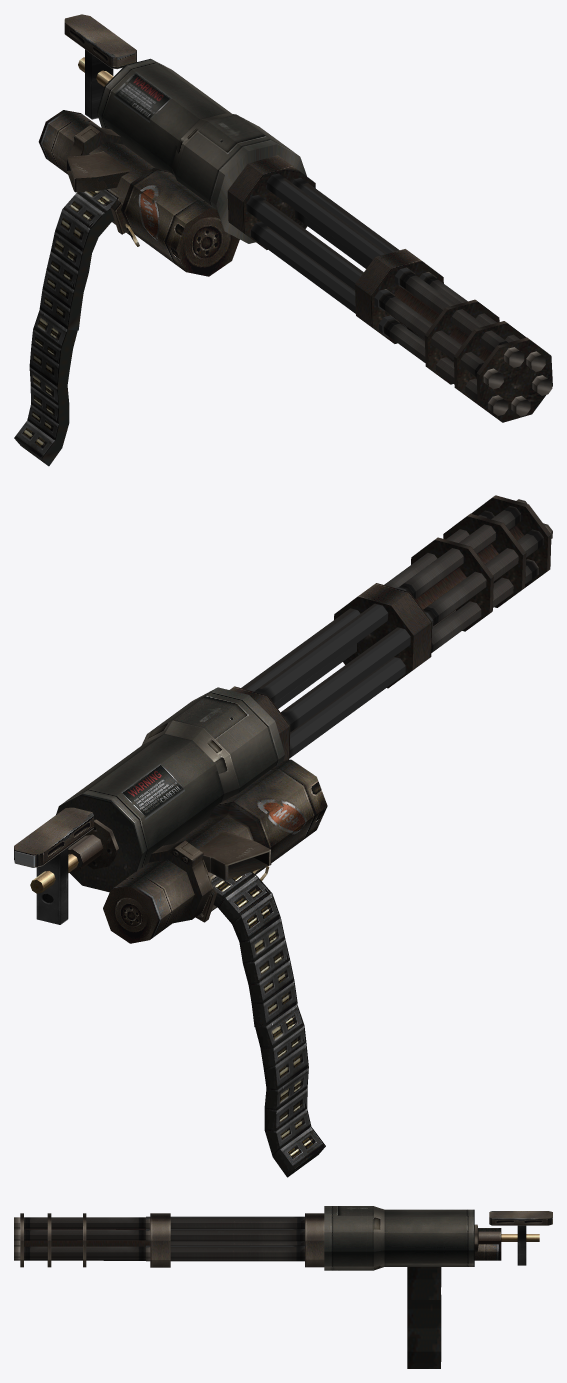
Rendered from machina guns.fbx.
The picture shows the model from 3 angles, top to bottom: view 1: azimuth 30°, elevation 25°; view 2: azimuth 150°, elevation 25°; view 3: azimuth 270°, elevation 25°; orthographic projection. The views are drawn at different scales.
Visible parts, largest first — view 1: f_minigun_template, f_minigun_template.001; view 2: f_minigun_template, f_minigun_template.001; view 3: f_minigun_template, f_minigun_template.001.
Part boxes in pixels (x1,y1,x2,y2): f_minigun_template: [14, 14, 306, 466]; f_minigun_template.001: [227, 155, 552, 422]; f_minigun_template: [14, 687, 327, 1177]; f_minigun_template.001: [230, 495, 552, 760]; f_minigun_template: [324, 1206, 552, 1368]; f_minigun_template.001: [14, 1213, 324, 1267].
Bounding box in the file's own units: 689 × 1106 × 2684.
Materials: 6 (6 with a texture image).
